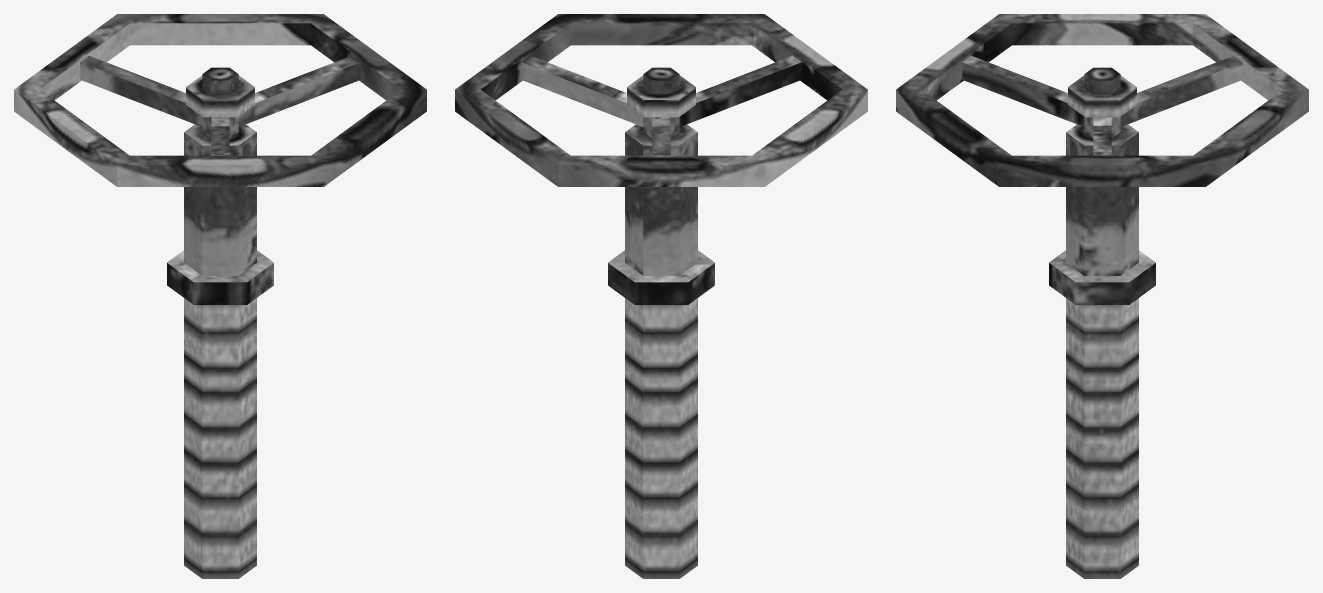
File: valve.glb
3 renders of one model, left to right at view 1: azimuth 30°, elevation 25°; view 2: azimuth 150°, elevation 25°; view 3: azimuth 270°, elevation 25°, orthographic.
Parts seen in each view (by area): view 1: Cylinder; view 2: Cylinder; view 3: Cylinder.
Part boxes in pixels (x1=…): Cylinder: x1=14, y1=14, x2=426, y2=578; Cylinder: x1=455, y1=14, x2=867, y2=578; Cylinder: x1=896, y1=14, x2=1308, y2=578.
Bounding box in the file's own units: 0.4958 × 0.7521 × 0.5725.
1 material, 1 textured.
